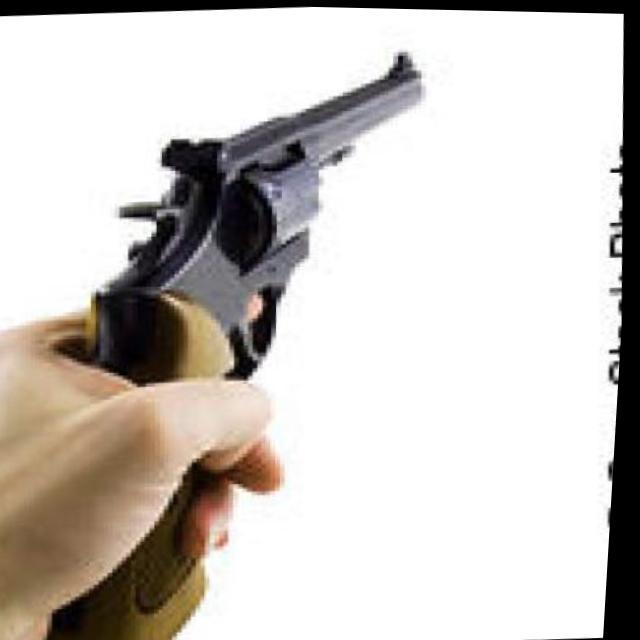weapon: (0, 34, 470, 640)
